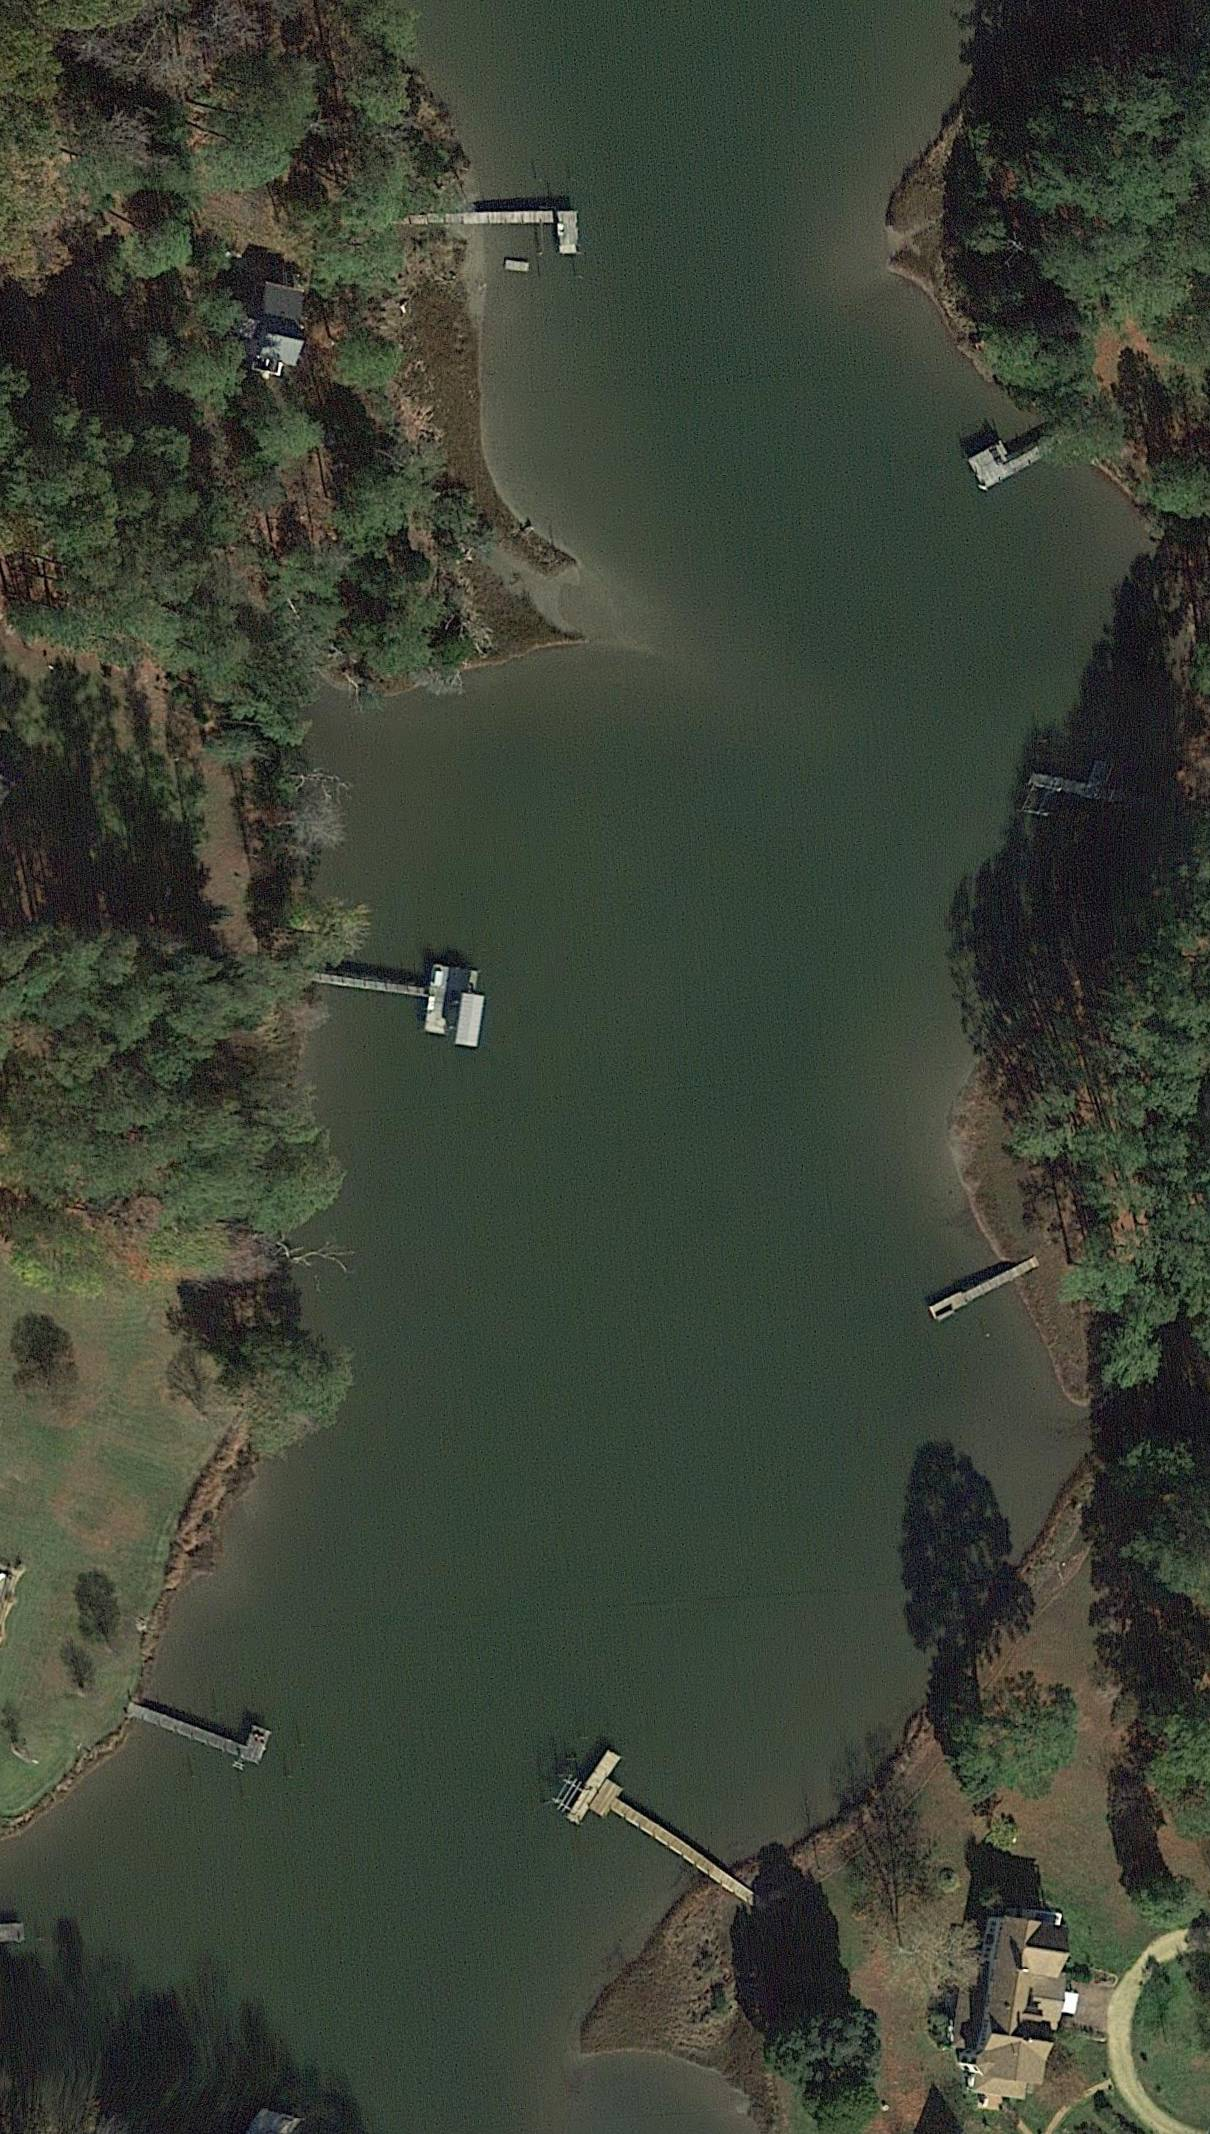harbor: (565, 1749, 751, 1894), (319, 945, 494, 1049), (151, 1691, 272, 1765), (968, 413, 1069, 492), (927, 1260, 1017, 1326), (478, 210, 582, 259)
